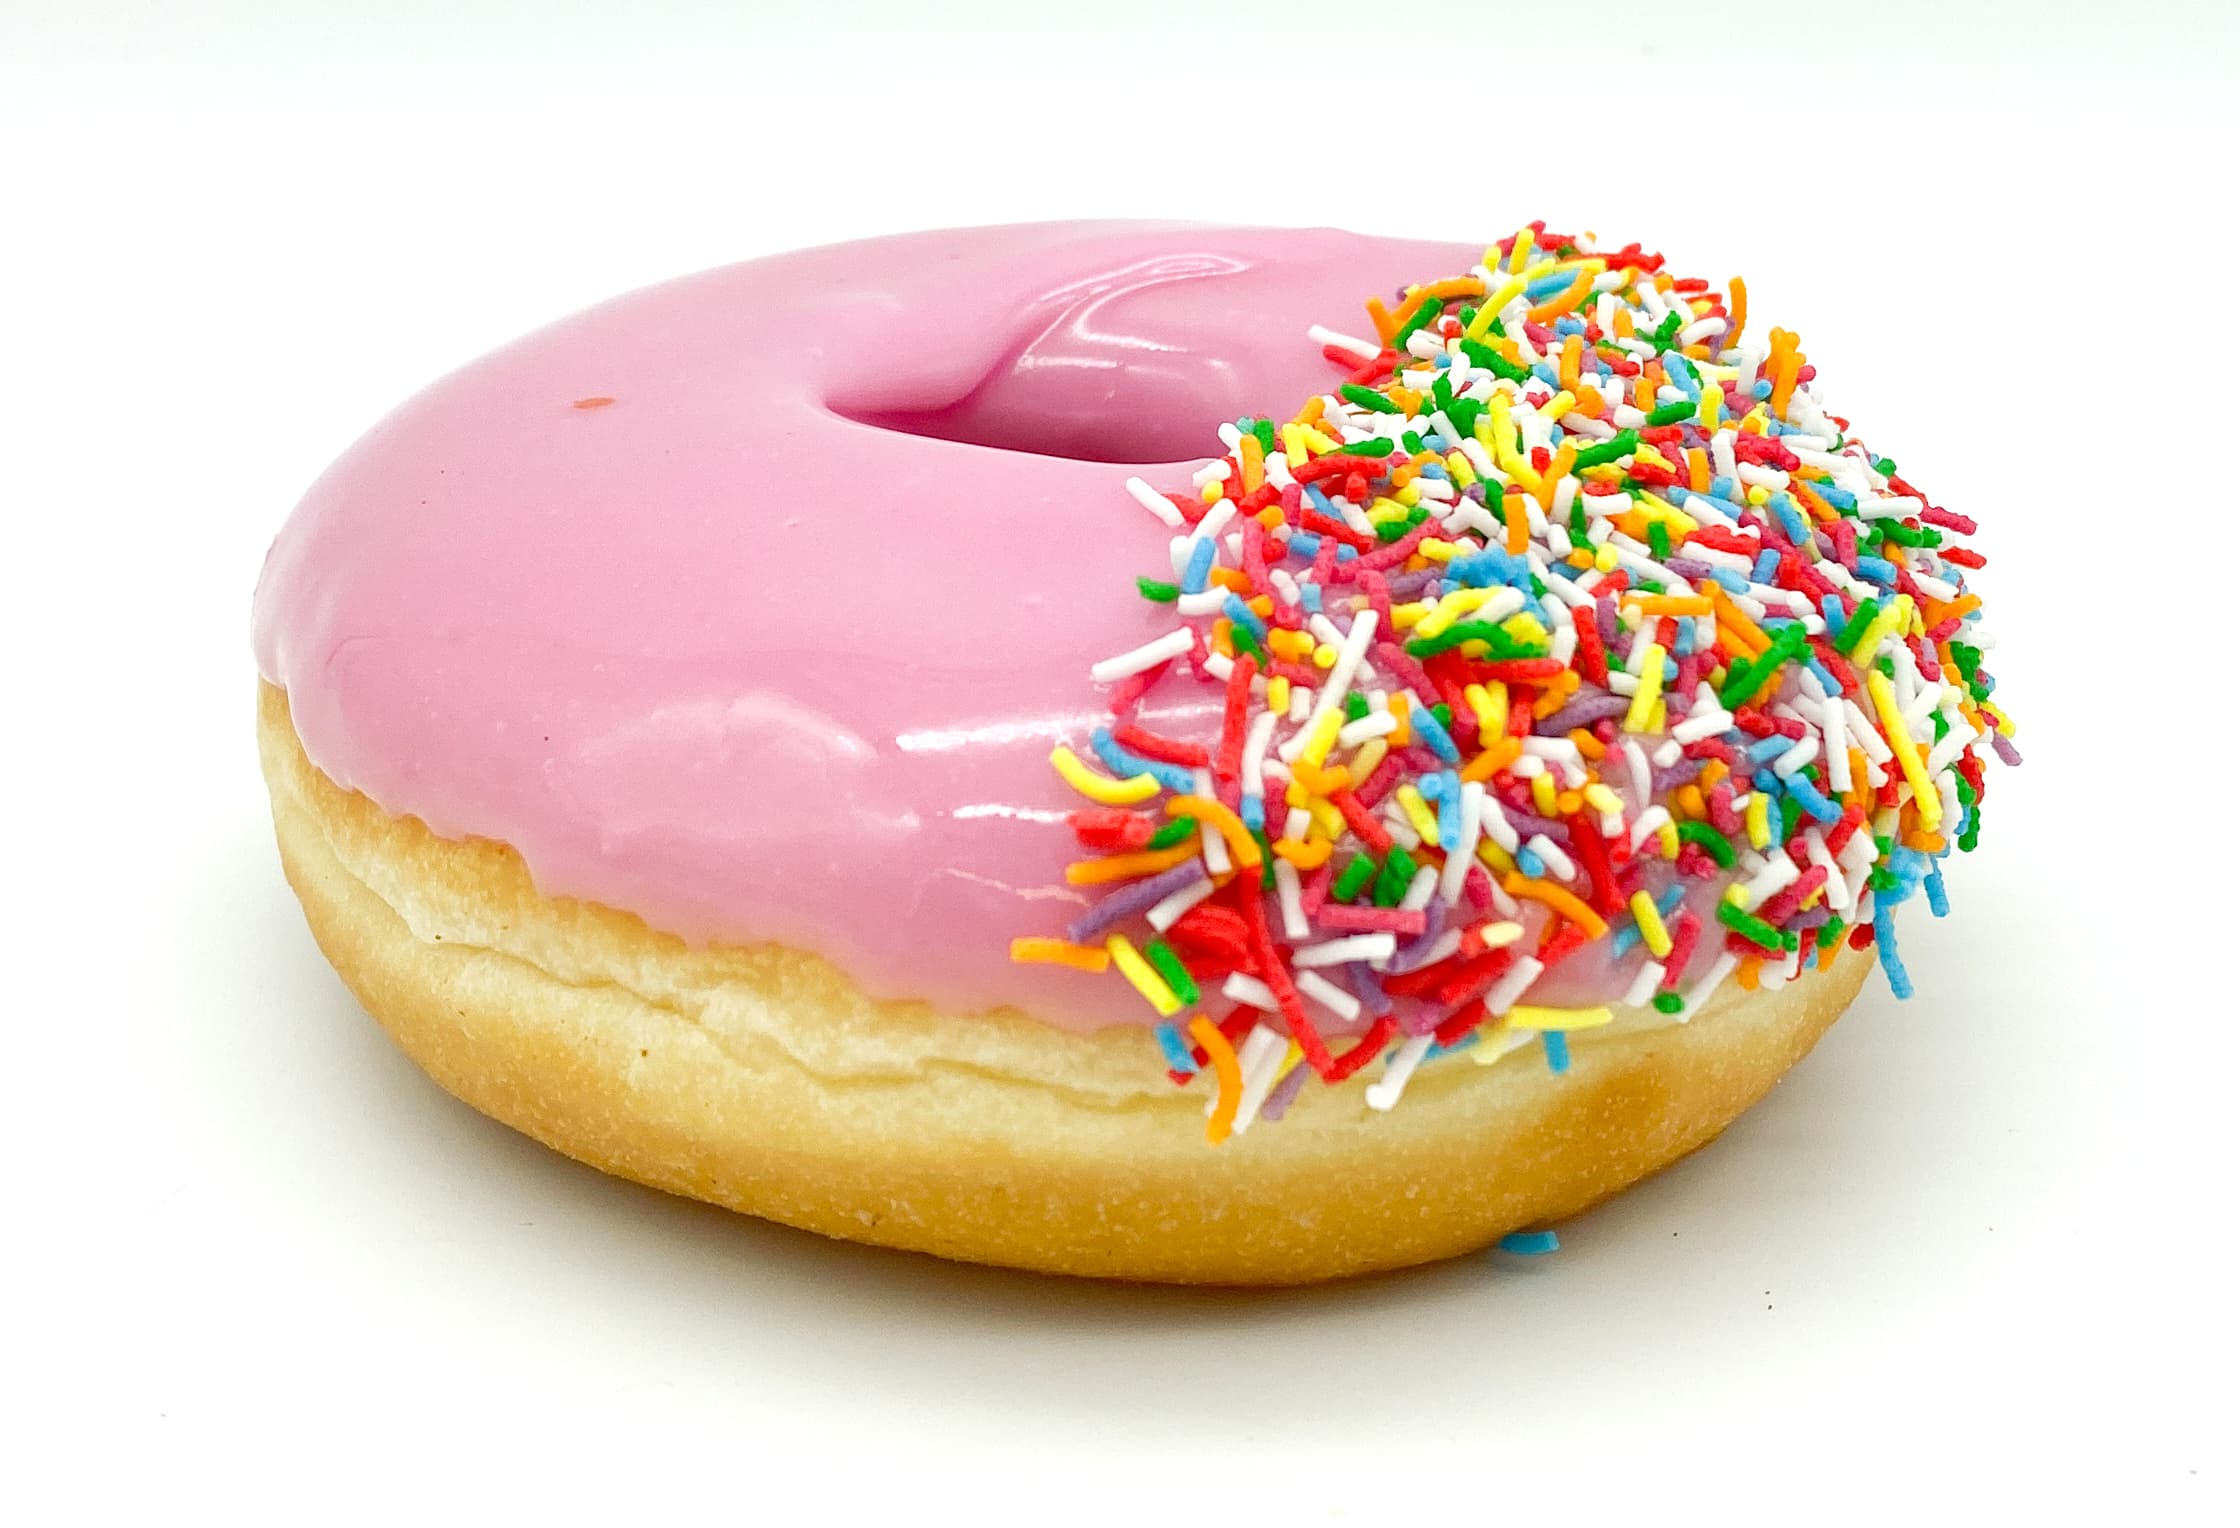donut: (150, 126, 2100, 1361)
